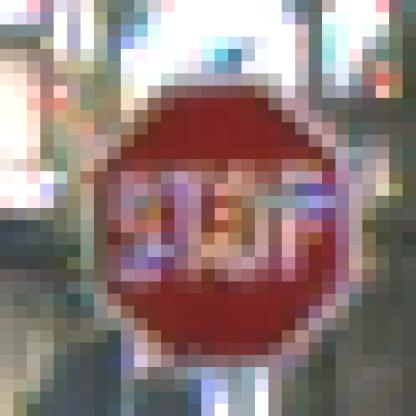Stop: (85, 84, 352, 368)
